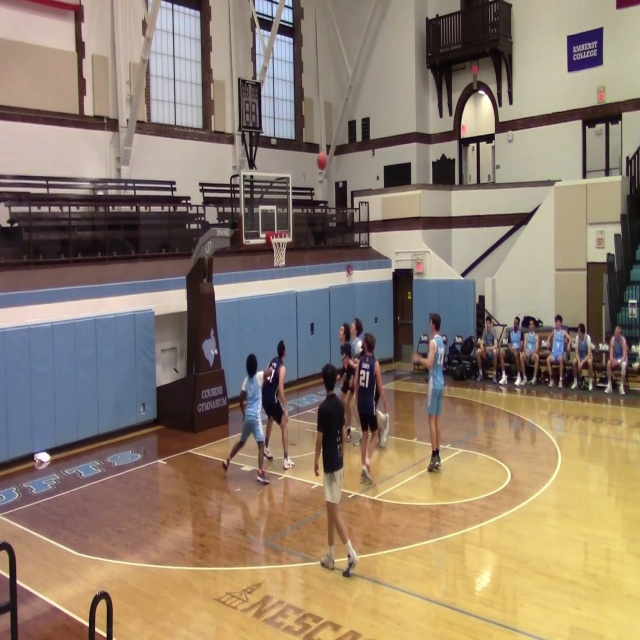Basketball: (34, 451, 50, 464), (317, 152, 328, 170)
